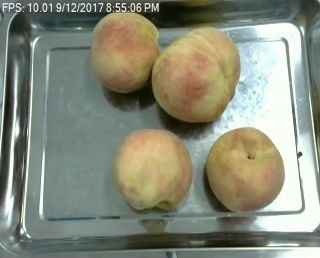Peach: (151, 25, 240, 122), (204, 127, 285, 212), (113, 126, 191, 211), (90, 12, 160, 92)
